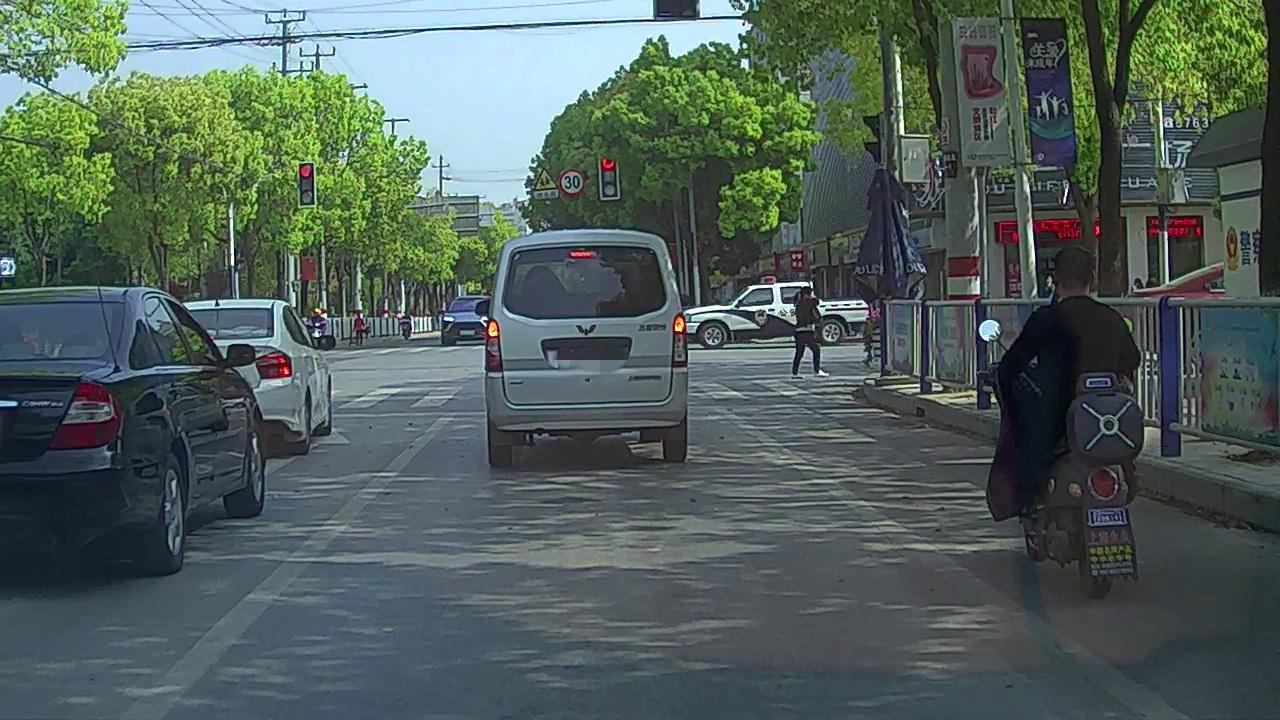traffic_light: (599, 155, 620, 199), (298, 163, 316, 206)
